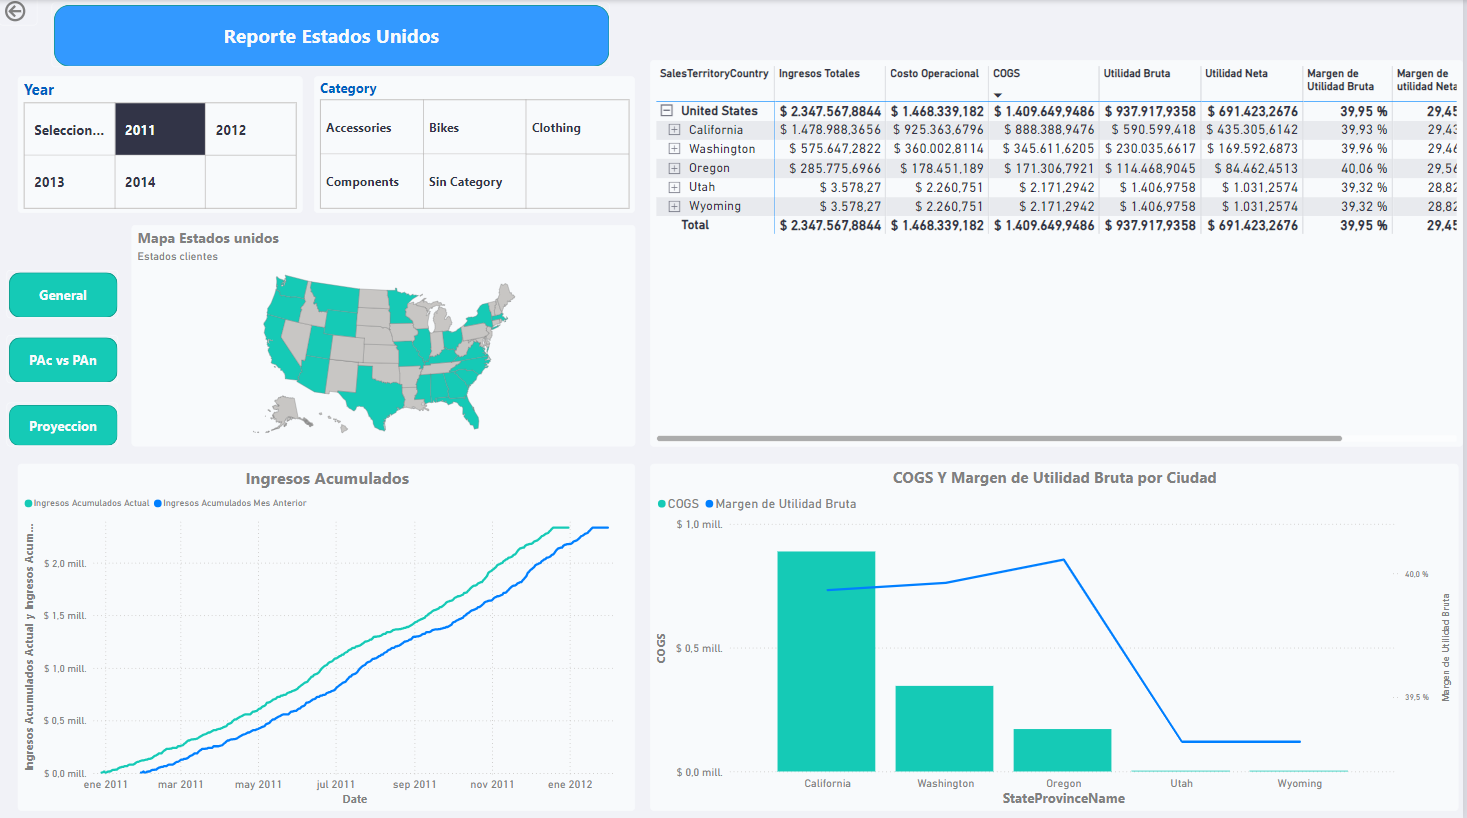

The page's visual inventory and layout, read from the dashboard file:
{"tool":"powerbi","page":{"name":"USA","canvas":[1920,1080],"ordinal":1},"visuals":[{"type":"pivotTable","fields":{"Rows":["DimSalesTerritory.SalesTerritoryCountry","DimCustomer.StateProvinceName","DimDate.CalendarYear","DimProduct.CategoryName","DimProduct.SubcategoryName","Variacion_Tiempo.Calculation group column"],"Values":["Medidas.Ingresos Totales","Medidas.Costo Operacional","Medidas.COGS","Medidas.Utilidad Bruta","Medidas.Utilidad Neta","Medidas.Margen de Utilidad Bruta","Medidas.Margen de utilidad Neta","Medidas.Costo de Envio"]},"box":[854.5,86.2,1065.5,505.5],"z":0},{"type":"lineStackedColumnComboChart","title":"COGS Y Margen de Utilidad Bruta por Ciudad","fields":{"Category":["DimCustomer.DimGeography.StateProvinceName"],"Y":["Medidas.COGS"],"Y2":["Medidas.Margen de Utilidad Bruta"]},"box":[854.5,614.6,1059.8,455.2],"z":1000},{"type":"actionButton","box":[0,0,50,40],"z":2000},{"type":"advancedSlicerVisual","fields":{"Values":["FactInternetSales.DueDate.Variation.Date Hierarchy.Year"]},"box":[24.4,106.3,373.4,179.5],"z":3000},{"type":"advancedSlicerVisual","title":"Category","fields":{"Values":["DimProduct.CategoryName"]},"box":[413.6,106.3,420.8,179.5],"z":4000},{"type":"shape","title":"USA","box":[10.1,360.4,146.5,63.2],"z":5000},{"type":"shape","title":"USA","box":[10.1,446.6,146.5,63.2],"z":6000},{"type":"lineChart","title":"Ingresos Acumulados","fields":{"Y":["Medidas.Ingresos Acumulados Actual","Medidas.Ingresos Acumulados Mes Anterior"],"Category":["DimDate.Date Hierarchy.Date"]},"box":[24.4,614.6,809.9,455.2],"z":7000},{"type":"shape","title":"USA","box":[10.1,534.2,146.5,57.4],"z":8000},{"type":"shapeMap","title":"Mapa Estados unidos ","fields":{"Category":["DimCustomer.StateProvinceName"]},"box":[173.8,301.6,660.6,290.1],"z":9000},{"type":"shape","title":"Periodo actual vs periodo anterior","box":[68.9,10.1,732.4,84.7],"z":10000}]}

Visuals, with their boxes in screenshot pixels (x1, y1, x2, y2), scaled from the page's 1920x1080 canvas onto the 1467x818 screenshot:
pivotTable - DimSalesTerritory.SalesTerritoryCountry x DimCustomer.StateProvinceName: bbox(653, 65, 1466, 448)
"COGS Y Margen de Utilidad Bruta por Ciudad" lineStackedColumnComboChart: bbox(653, 466, 1463, 810)
actionButton: bbox(0, 0, 38, 30)
advancedSlicerVisual - FactInternetSales.DueDate.Variation.Date Hierarchy.Year: bbox(19, 81, 304, 216)
"Category" advancedSlicerVisual: bbox(316, 81, 638, 216)
"USA" shape: bbox(8, 273, 120, 321)
"USA" shape: bbox(8, 338, 120, 386)
"Ingresos Acumulados" lineChart: bbox(19, 466, 637, 810)
"USA" shape: bbox(8, 405, 120, 448)
"Mapa Estados unidos " shapeMap: bbox(133, 228, 638, 448)
"Periodo actual vs periodo anterior" shape: bbox(53, 8, 612, 72)
